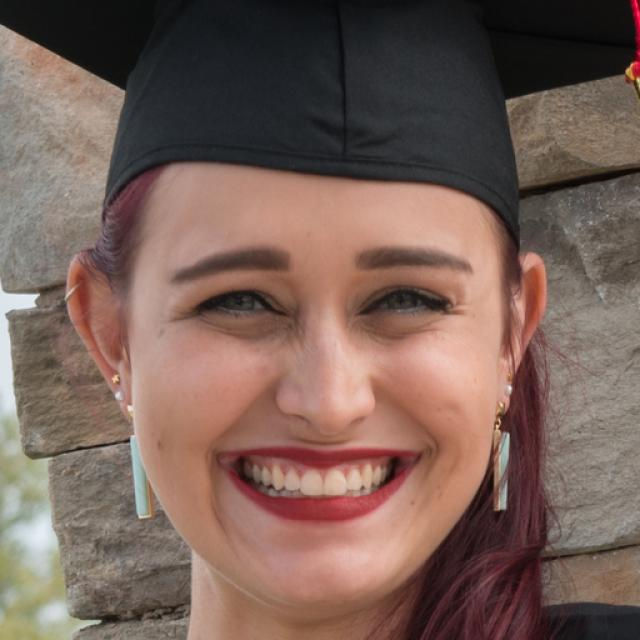Dark Circle: (200, 308, 287, 338), (356, 311, 436, 338)
